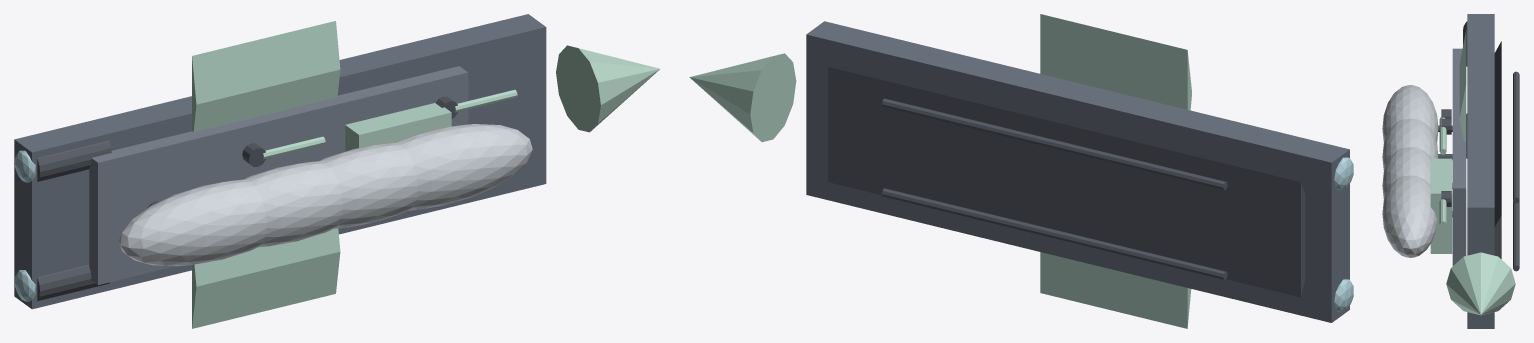
The model's file is SWS-007_aegiswing_escort.glb.
3 views of the same model, side by side, from view 1: azimuth 30°, elevation 25°; view 2: azimuth 150°, elevation 25°; view 3: azimuth 270°, elevation 25° (orthographic). The views are drawn at different scales.
Visible parts, largest first — view 1: main_hull, upper_deck, wing_1, aether_lift_bladder_1, wing_-1, aether_lift_bladder_4, aether_lift_bladder_2, aether_lift_bladder_3, aether_nose, bridge, engine_pod_1, engine_pod_-1 (+4 smaller); view 2: keel, main_hull, wing_1, wing_-1, aether_nose, landing_skid_-1, landing_skid_1, engine_glow_1, engine_glow_-1; view 3: main_hull, aether_lift_bladder_4, aether_nose, upper_deck, aether_lift_bladder_1, bridge, keel, aether_lift_bladder_2, aether_lift_bladder_3, landing_skid_1, wing_1, landing_skid_-1 (+5 smaller).
Boxes of the visible parts, <box> form: main_hull: <box>14,14,546,309</box>; upper_deck: <box>89,66,468,285</box>; wing_1: <box>192,21,340,132</box>; aether_lift_bladder_1: <box>119,179,266,266</box>; wing_-1: <box>192,228,340,328</box>; aether_lift_bladder_4: <box>395,124,532,210</box>; aether_lift_bladder_2: <box>244,161,342,247</box>; aether_lift_bladder_3: <box>320,142,417,228</box>; aether_nose: <box>556,45,660,132</box>; bridge: <box>345,103,451,151</box>; engine_pod_1: <box>37,140,111,181</box>; engine_pod_-1: <box>37,264,109,301</box>; keel: <box>828,67,1305,297</box>; main_hull: <box>806,21,1349,322</box>; wing_1: <box>1040,14,1191,110</box>; wing_-1: <box>1040,252,1191,328</box>; aether_nose: <box>689,53,796,142</box>; landing_skid_-1: <box>882,188,1227,279</box>; landing_skid_1: <box>882,98,1227,189</box>; engine_glow_1: <box>1334,157,1353,190</box>; engine_glow_-1: <box>1334,279,1353,312</box>; main_hull: <box>1467,14,1494,328</box>; aether_lift_bladder_4: <box>1382,175,1436,257</box>; aether_nose: <box>1446,252,1515,315</box>; upper_deck: <box>1452,48,1466,265</box>; aether_lift_bladder_1: <box>1382,85,1438,142</box>; bridge: <box>1430,158,1452,253</box>; keel: <box>1494,41,1501,258</box>; aether_lift_bladder_2: <box>1382,118,1438,170</box>; aether_lift_bladder_3: <box>1382,147,1431,198</box>; landing_skid_1: <box>1513,71,1519,203</box>; wing_1: <box>1459,30,1466,141</box>; landing_skid_-1: <box>1513,201,1519,271</box>.
Size of the model in its own units: 60.15 by 24.36 by 14.36.
